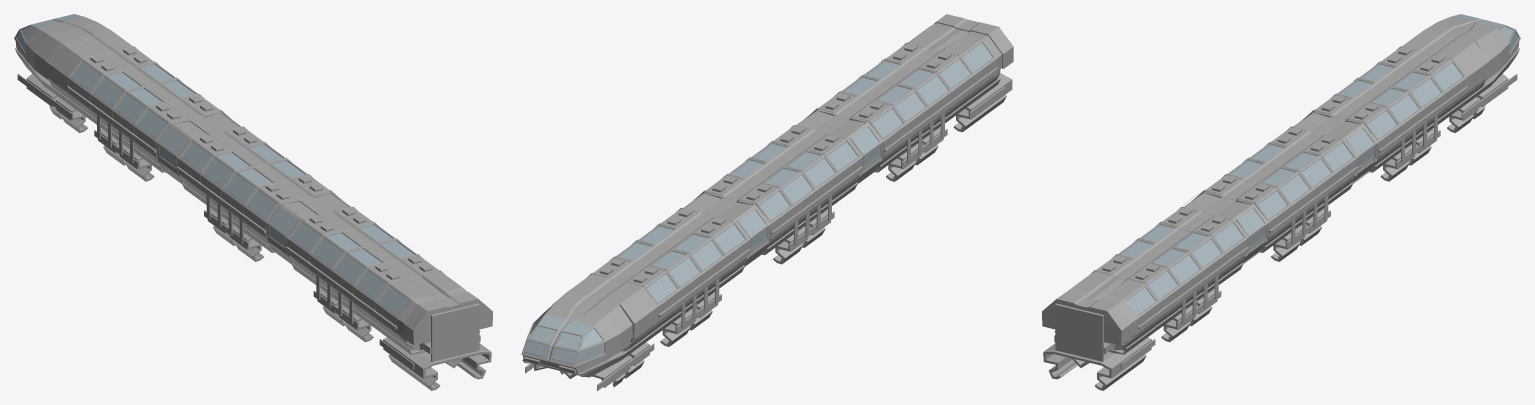
Rendered from stationwdoors.fbx.
3 views of the same model, side by side, from view 1: azimuth 30°, elevation 25°; view 2: azimuth 150°, elevation 25°; view 3: azimuth 330°, elevation 25° (orthographic). The views are drawn at different scales.
Parts seen in each view (by area): view 1: polySurface28, polySurface42, door2, door4; view 2: polySurface28, polySurface42, door2, door4; view 3: polySurface28, polySurface42, door3, door.
Part boxes in pixels (x1,y1,x2,y2): polySurface28: [14, 16, 492, 390]; polySurface42: [16, 14, 414, 315]; door2: [158, 126, 189, 183]; door4: [268, 207, 299, 263]; polySurface28: [521, 14, 1013, 390]; polySurface42: [524, 42, 993, 363]; door2: [737, 207, 768, 266]; door4: [849, 125, 881, 183]; polySurface28: [1042, 16, 1520, 390]; polySurface42: [1120, 14, 1518, 315]; door3: [1235, 206, 1266, 262]; door: [1345, 126, 1375, 181].
Bounding box in the file's own units: 4.35 × 3.97 × 38.05.
